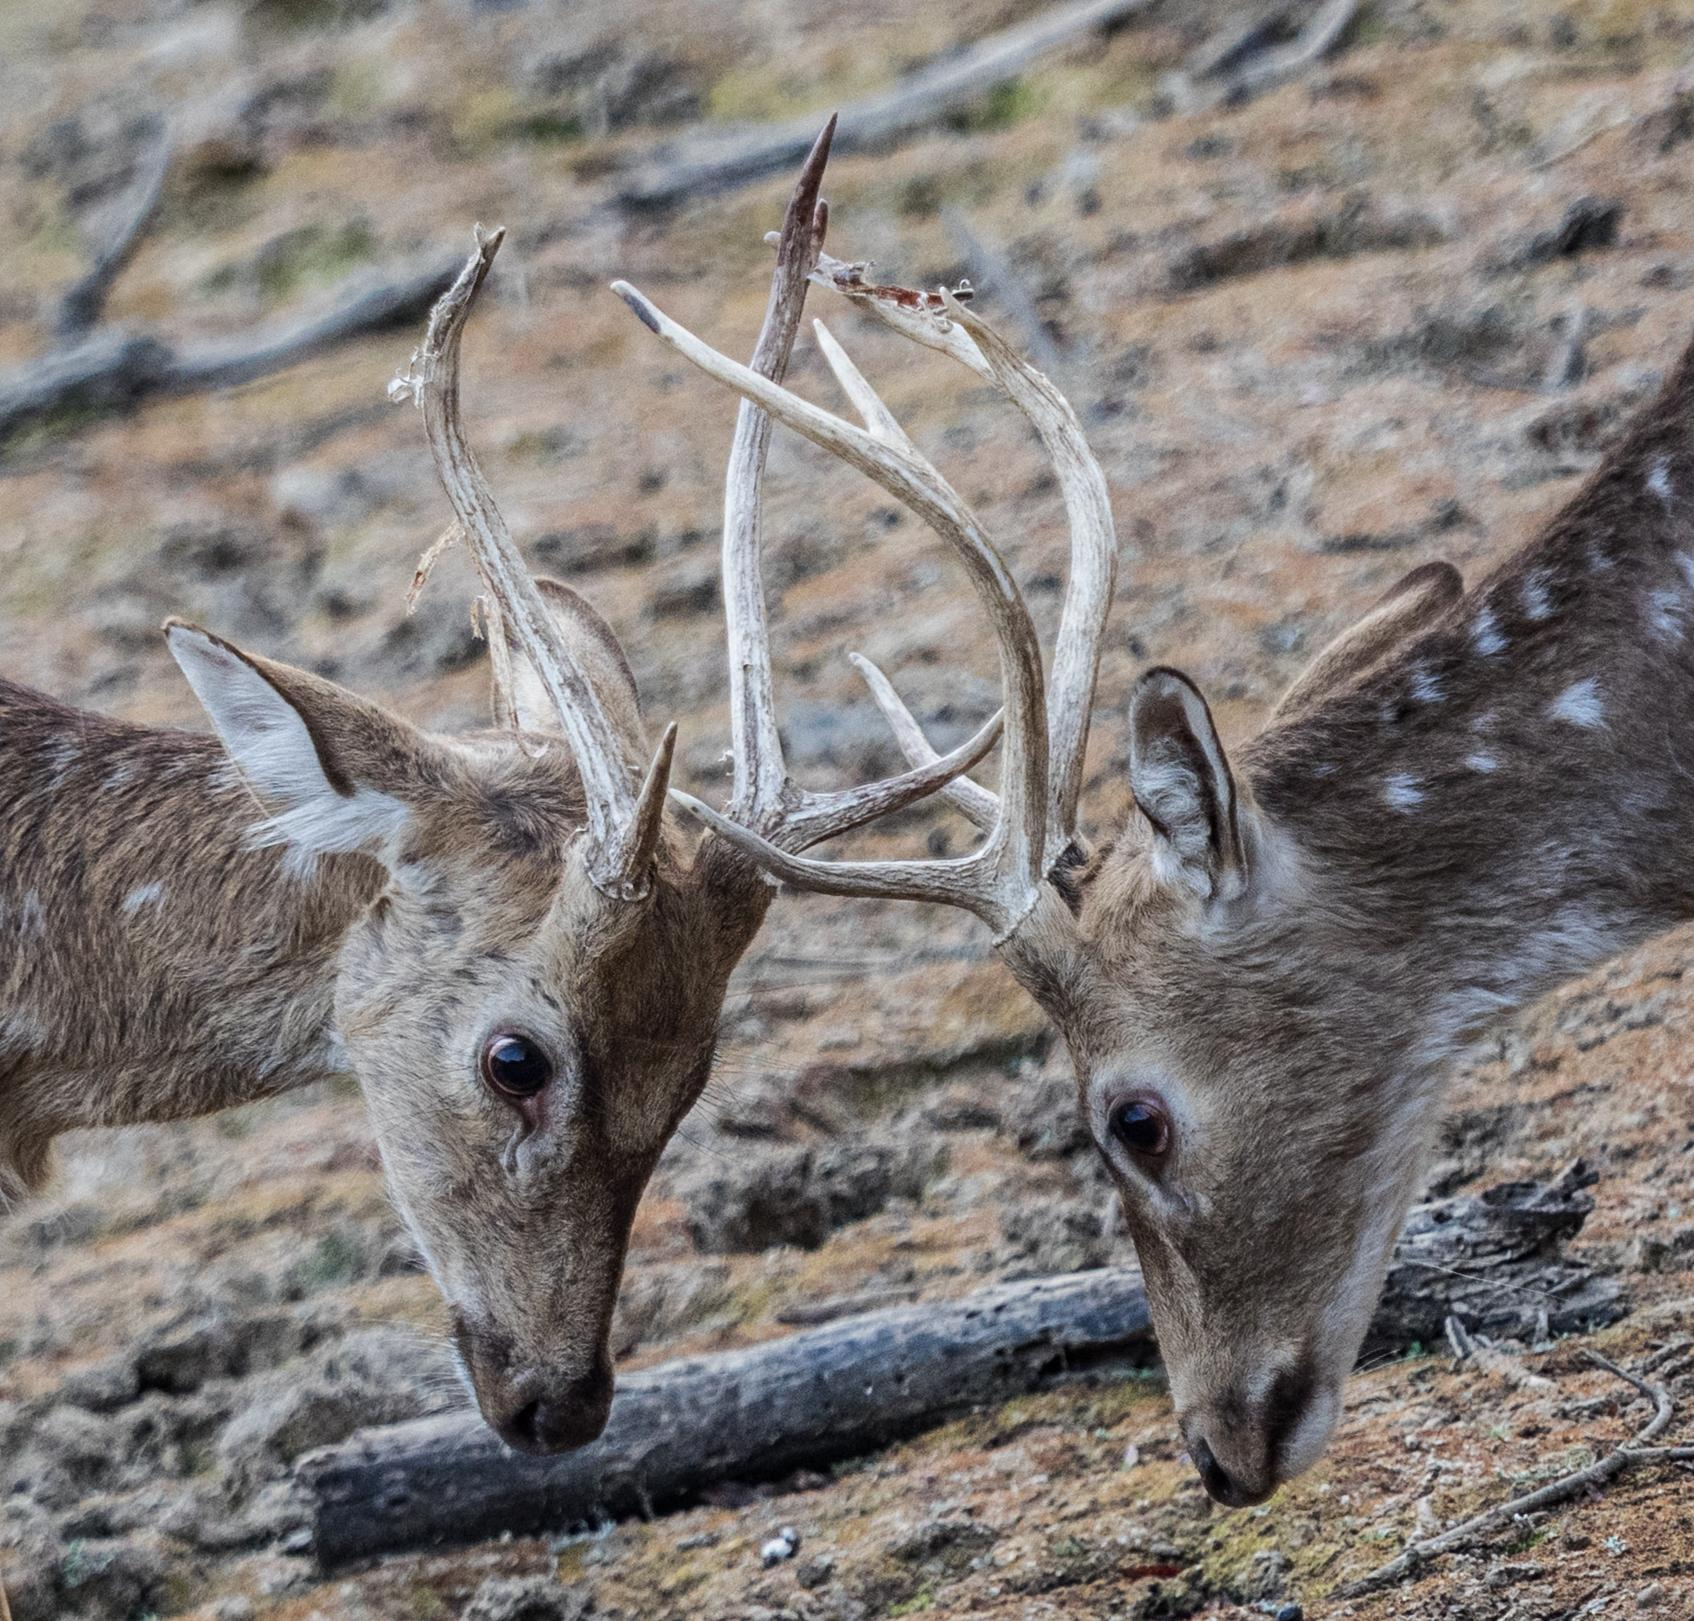Deer: (625, 256, 1692, 1505), (0, 224, 773, 1453)
